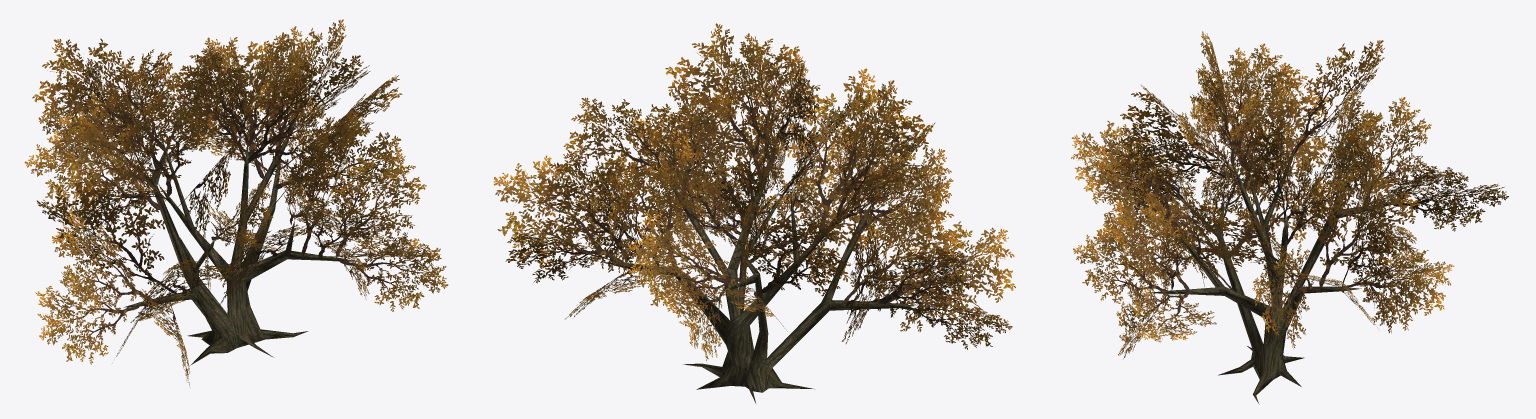
The model's file is Utility_Tree04_LOD2.FBX.
3 views of the same model, side by side, from view 1: azimuth 30°, elevation 25°; view 2: azimuth 150°, elevation 25°; view 3: azimuth 270°, elevation 25° (orthographic). The views are drawn at different scales.
Visible parts, largest first — view 1: cmc_shu04_02_LOD2, cmc_shu04_01_LOD2; view 2: cmc_shu04_02_LOD2, cmc_shu04_01_LOD2; view 3: cmc_shu04_02_LOD2, cmc_shu04_01_LOD2.
Boxes of the visible parts, x1,y1,x2,y2 form: cmc_shu04_02_LOD2: (24, 19, 448, 386); cmc_shu04_01_LOD2: (120, 119, 357, 365); cmc_shu04_02_LOD2: (493, 23, 1015, 360); cmc_shu04_01_LOD2: (602, 147, 916, 403); cmc_shu04_02_LOD2: (1071, 31, 1508, 358); cmc_shu04_01_LOD2: (1149, 135, 1391, 404).
Size of the model in its own units: 2306 by 1636 by 2139.
2 materials, 2 textured.
